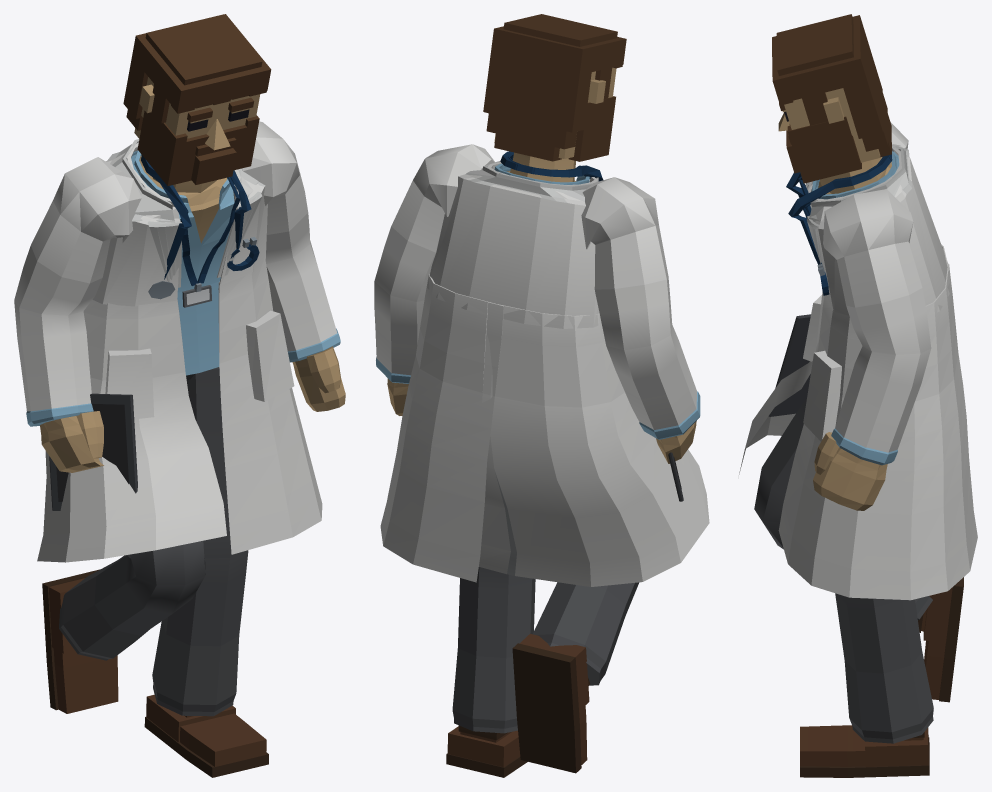
File: doctor-d49de0__walk2.glb
3 renders of one model, left to right at view 1: azimuth 30°, elevation 25°; view 2: azimuth 150°, elevation 25°; view 3: azimuth 270°, elevation 25°, orthographic. The views are drawn at different scales.
Visible parts, largest first — view 1: doctor-d49de0__walk2; view 2: doctor-d49de0__walk2; view 3: doctor-d49de0__walk2.
Part boxes in pixels (x1=…): doctor-d49de0__walk2: x1=14, y1=14, x2=345, y2=777; doctor-d49de0__walk2: x1=374, y1=14, x2=709, y2=777; doctor-d49de0__walk2: x1=739, y1=14, x2=977, y2=777.
Bounding box in the file's own units: 0.779 × 1.73 × 0.5227.
